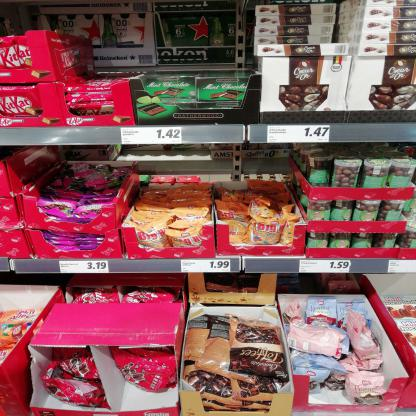prtg: (268, 127, 331, 144), (121, 128, 183, 145), (300, 261, 351, 274), (60, 261, 110, 274), (182, 261, 231, 273), (389, 261, 415, 273)
